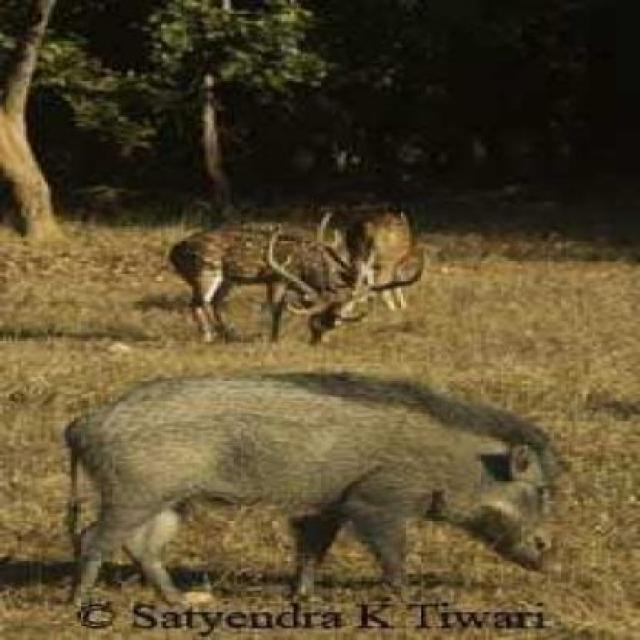WildBoar: (51, 341, 572, 621)
